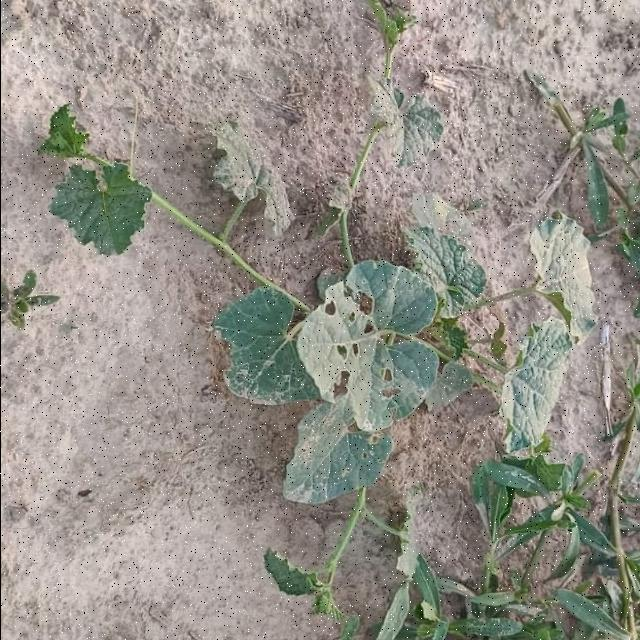plant: (40, 76, 597, 615)
